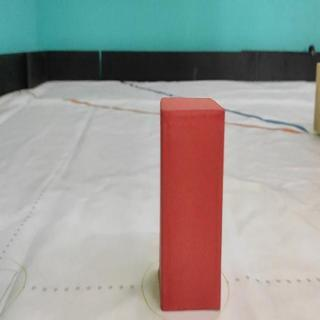redbox: (161, 98, 220, 311)
